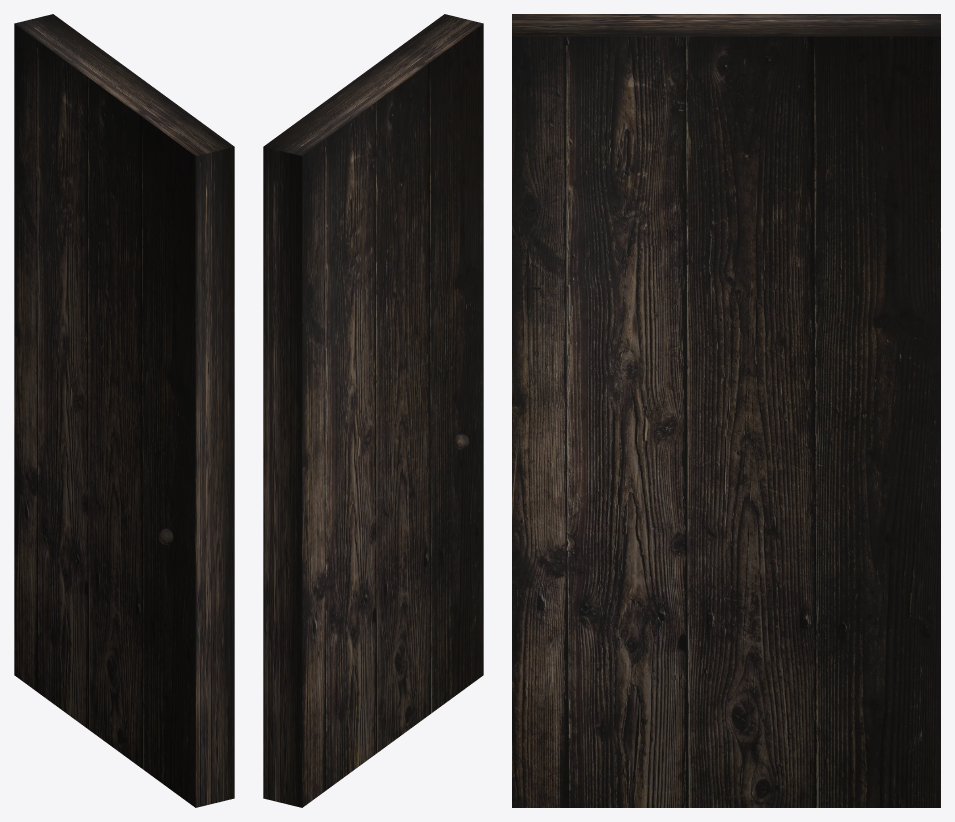
File: WardrobeDoor.fbx
3 renders of one model, left to right at view 1: azimuth 30°, elevation 25°; view 2: azimuth 150°, elevation 25°; view 3: azimuth 270°, elevation 25°, orthographic. The views are drawn at different scales.
Parts seen in each view (by area): view 1: Cube_6; view 2: Cube_6; view 3: Cube_6.
Part boxes in pixels (x1,y1,x2,y2): Cube_6: [14, 14, 234, 807]; Cube_6: [263, 14, 483, 807]; Cube_6: [512, 14, 940, 807].
Size of the model in its own units: 25.33 by 321 by 162.
Materials: 1 (1 with a texture image).
